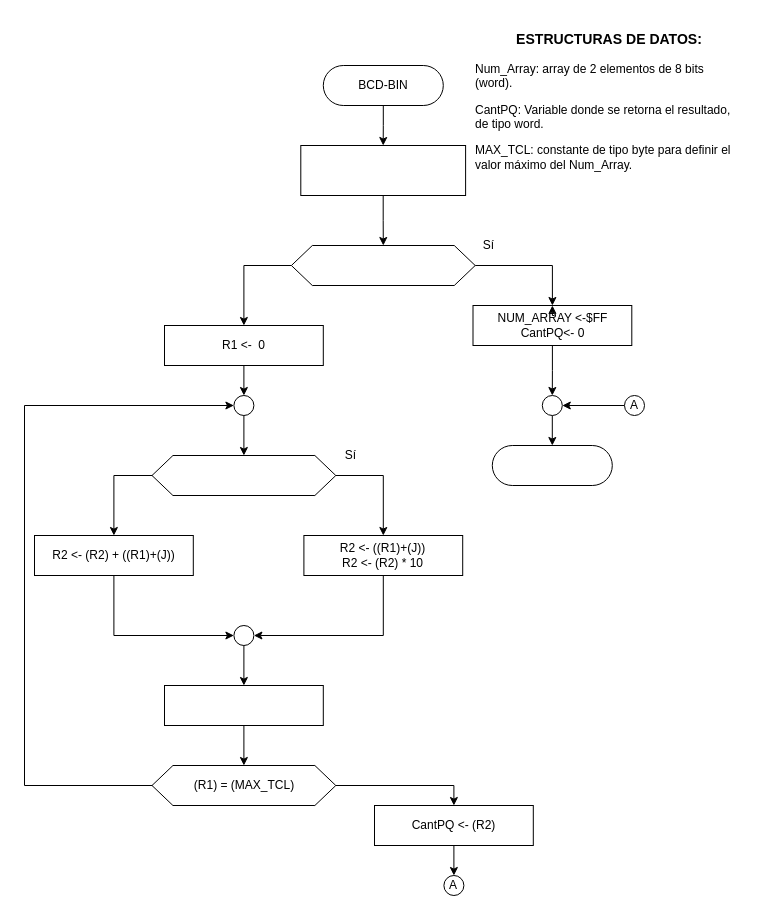
Some shapes in this 760 by 913 pixel diagram are drawn without their labels. Here are the shapes that lost their labels. From the top down, the box of each, then its label:
(300, 144, 466, 196): J <- (Num_Array) R1 <- ((J) +1)
(290, 244, 475, 286): (R1) = $FF
(151, 454, 336, 496): (R1) = 0
(491, 444, 612, 486): REGRESAR
(164, 684, 323, 726): (R1)+(J) <- $FF R1 <- (R1) +1
